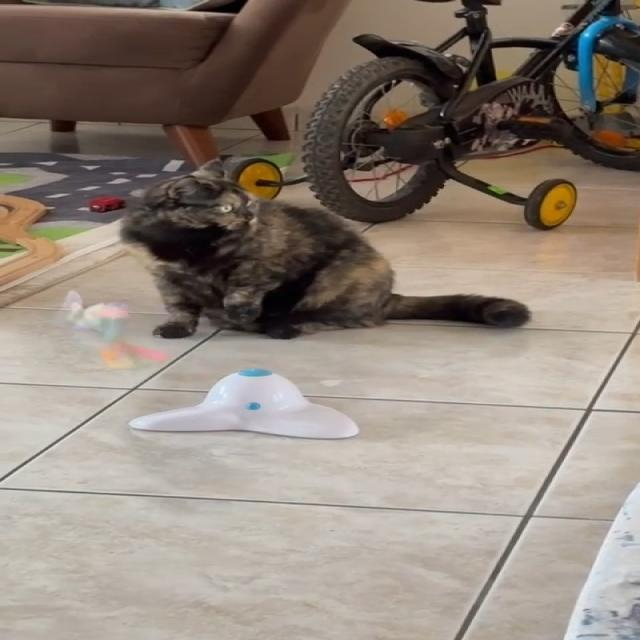authorized: (117, 157, 531, 340)
